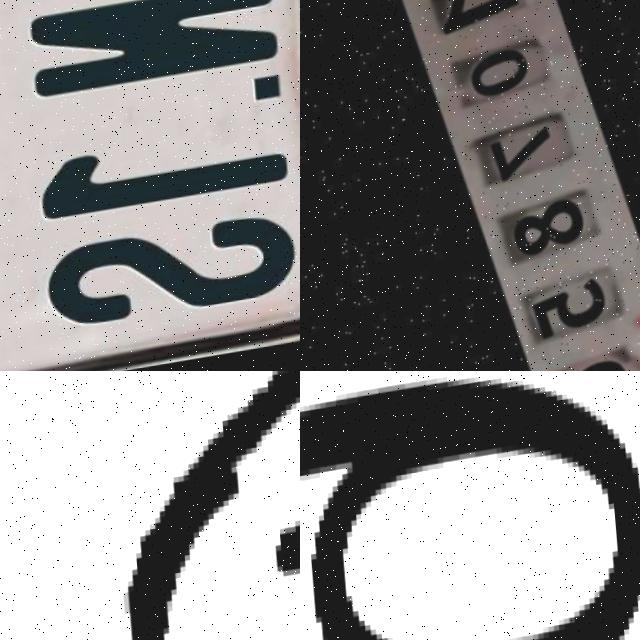0: (445, 32, 545, 114)
1: (38, 128, 300, 231), (422, 0, 523, 41)
5: (516, 264, 620, 354)
6: (300, 371, 640, 640), (538, 340, 640, 371)
7: (469, 108, 570, 194)
8: (492, 182, 601, 274)
N: (26, 0, 281, 102)
Q: (78, 371, 300, 640)
S: (43, 219, 299, 343)
